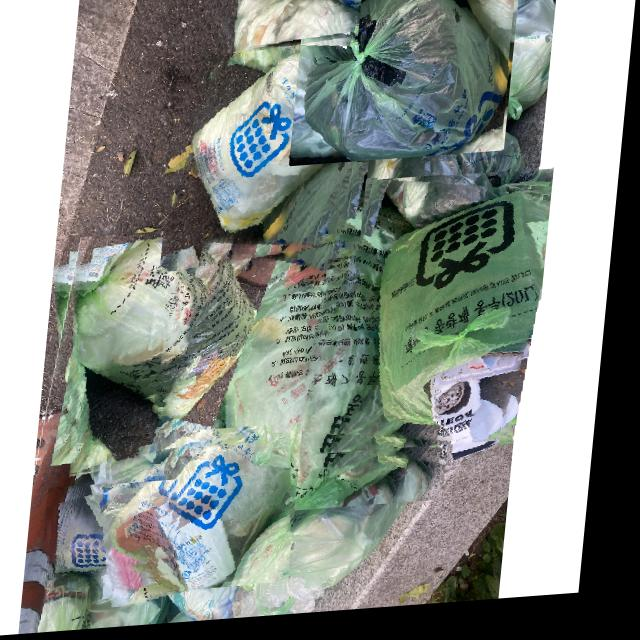general_trashbag: (152, 204, 472, 514), (307, 185, 555, 449), (168, 45, 380, 255), (75, 230, 251, 476), (294, 0, 517, 170), (119, 430, 302, 610), (56, 483, 187, 590), (224, 0, 361, 58)
